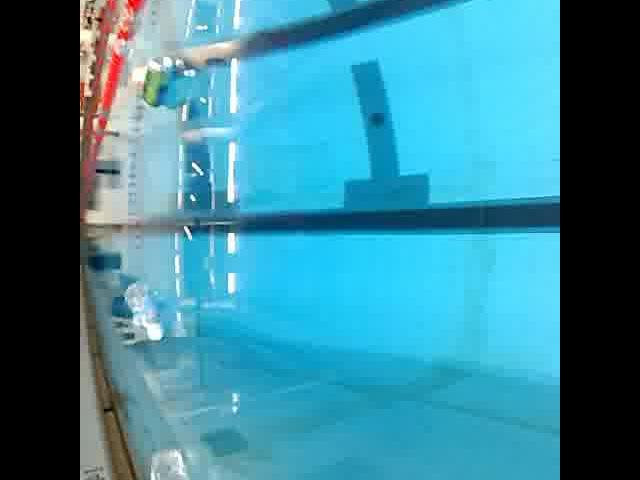Bottle: (122, 276, 168, 344), (144, 441, 194, 480), (126, 60, 152, 88)
Can: (140, 48, 178, 112)
